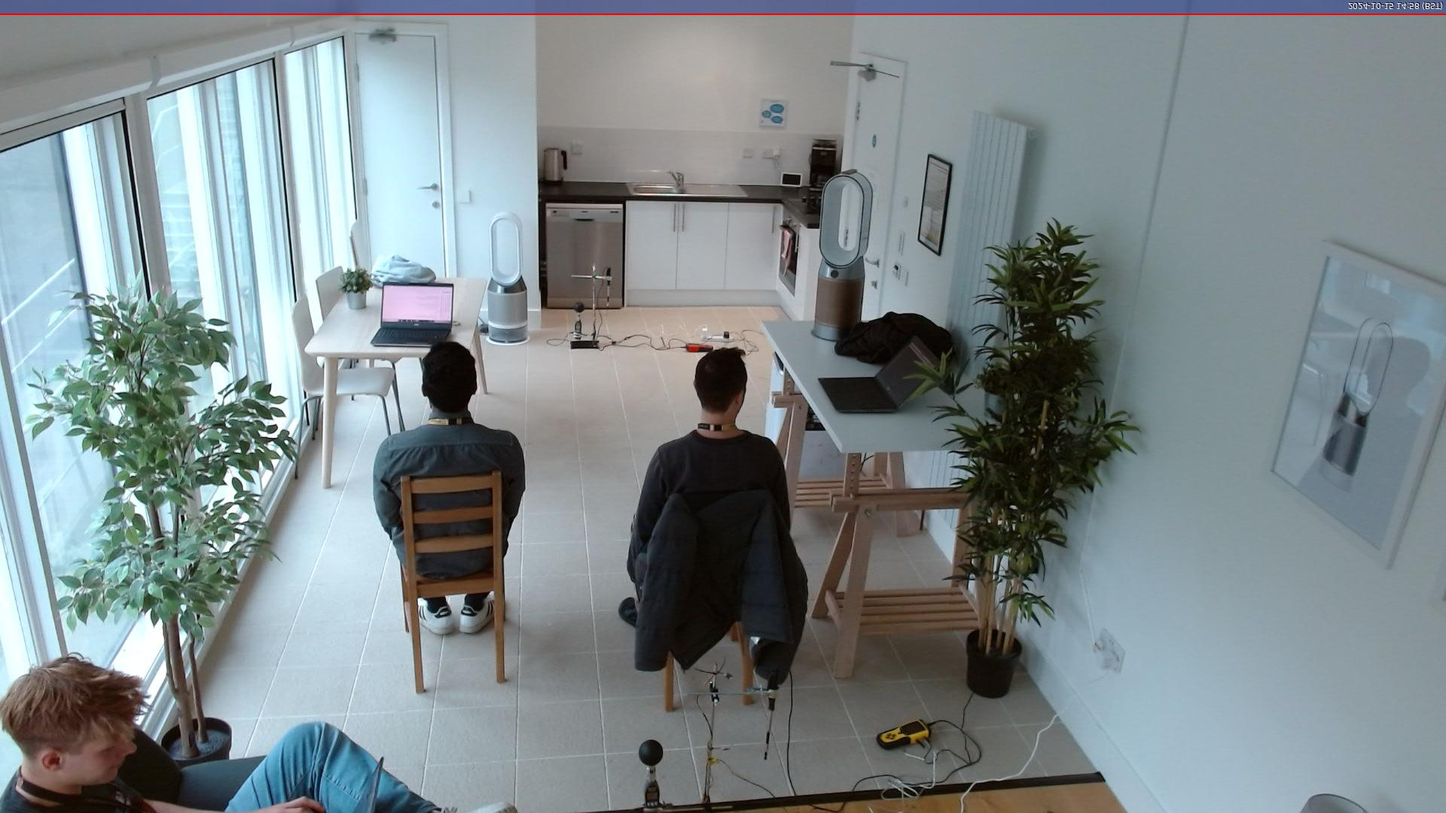long sleeve shirt: (370, 410, 529, 571)
short sleeve shirt: (0, 745, 155, 812)
sweater: (622, 430, 792, 574)
trousers: (219, 716, 444, 813)
